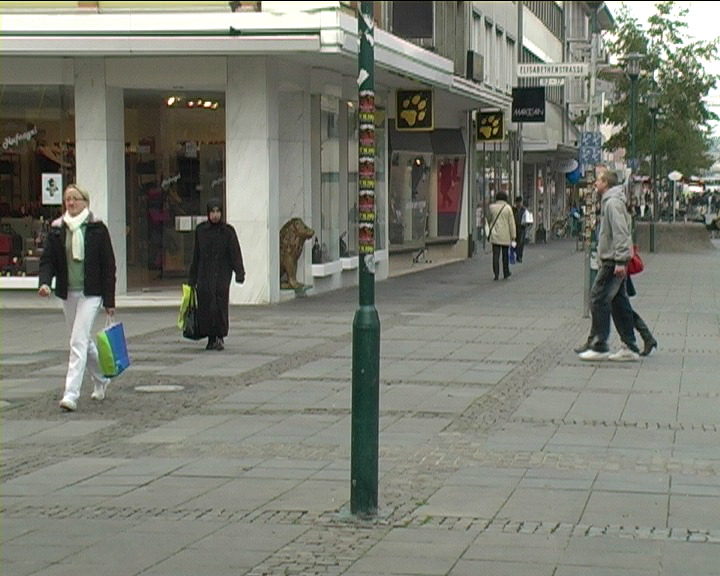undeflect: (47, 183, 112, 249)
